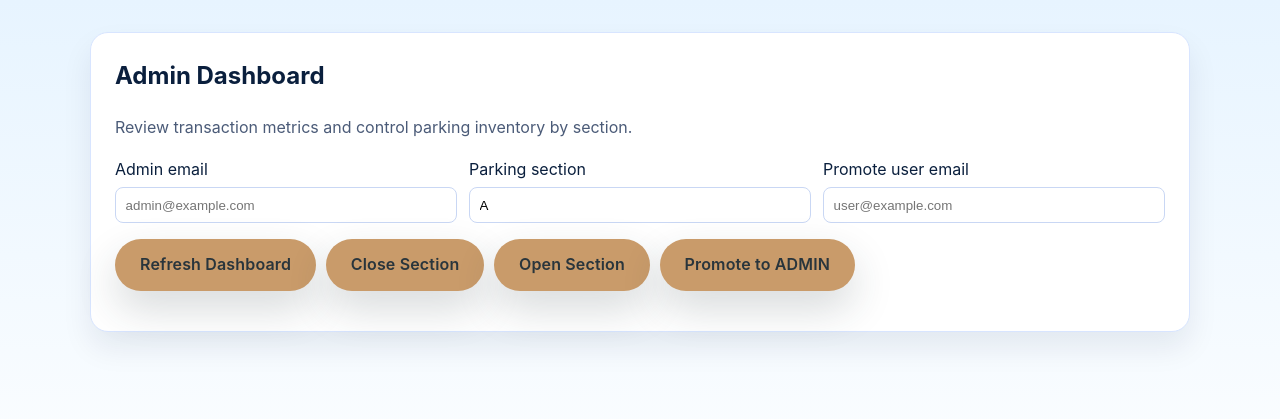
Test case: AdminDashboardPage › shows validation when admin email is missing
This screenshot has width=1280, height=419.
Click the button "Refresh Dashboard": (216, 265) [115, 240, 316, 291]
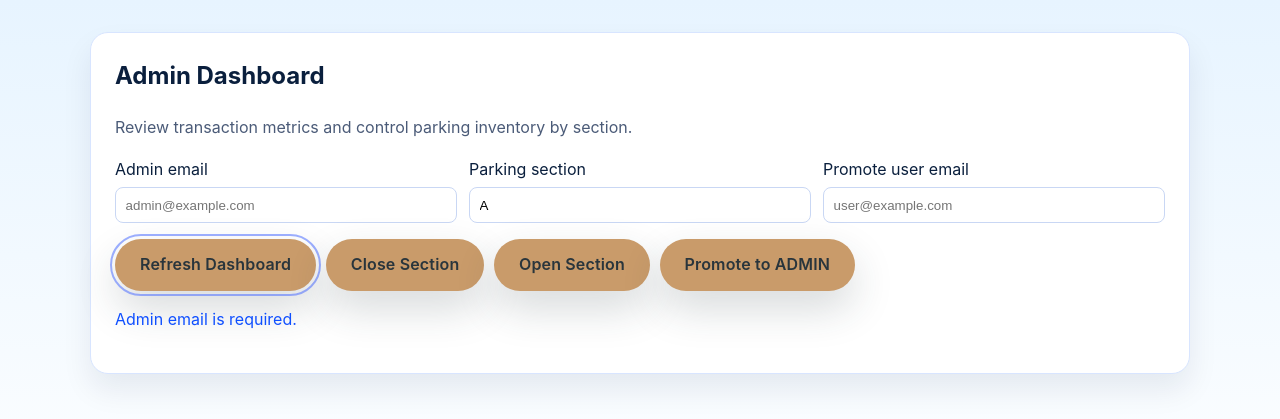
Result: the text "Admin email is required." is shown at [115, 309, 297, 329]
